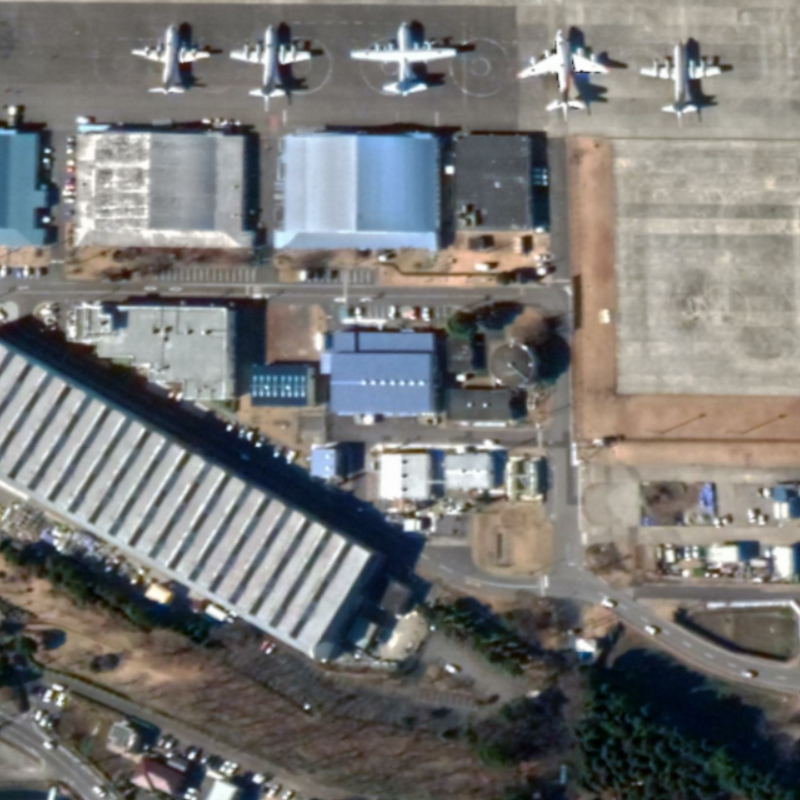A2: (344, 16, 465, 104)
A3: (501, 22, 620, 119)
A9: (226, 12, 323, 105), (120, 14, 218, 102), (643, 35, 731, 129)
